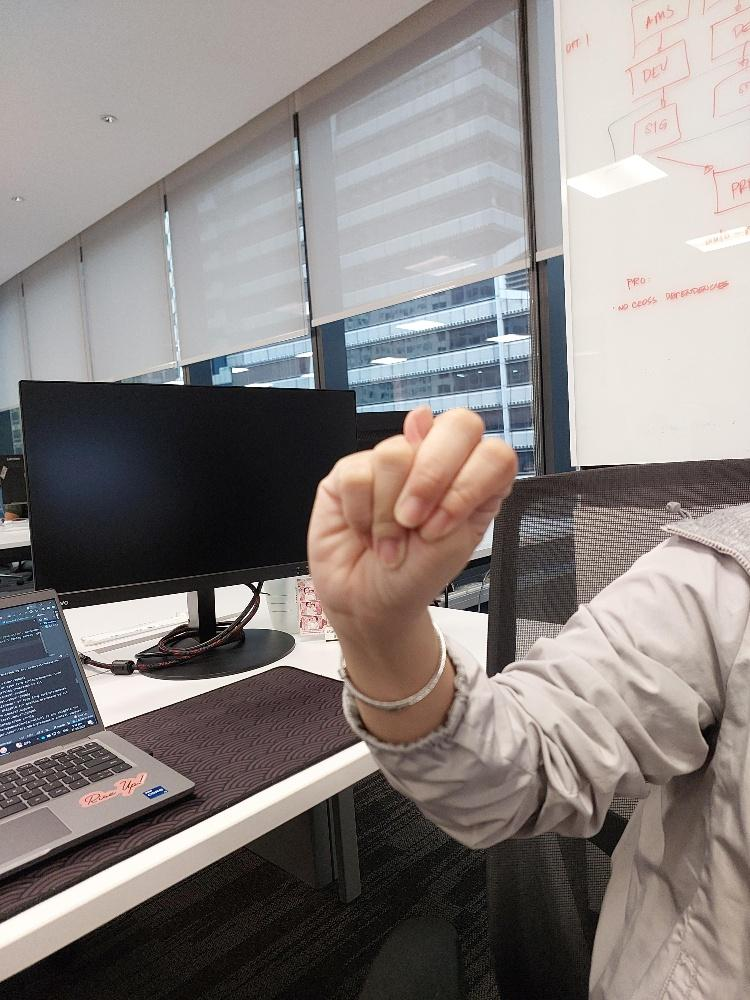n: (307, 402, 522, 614)
